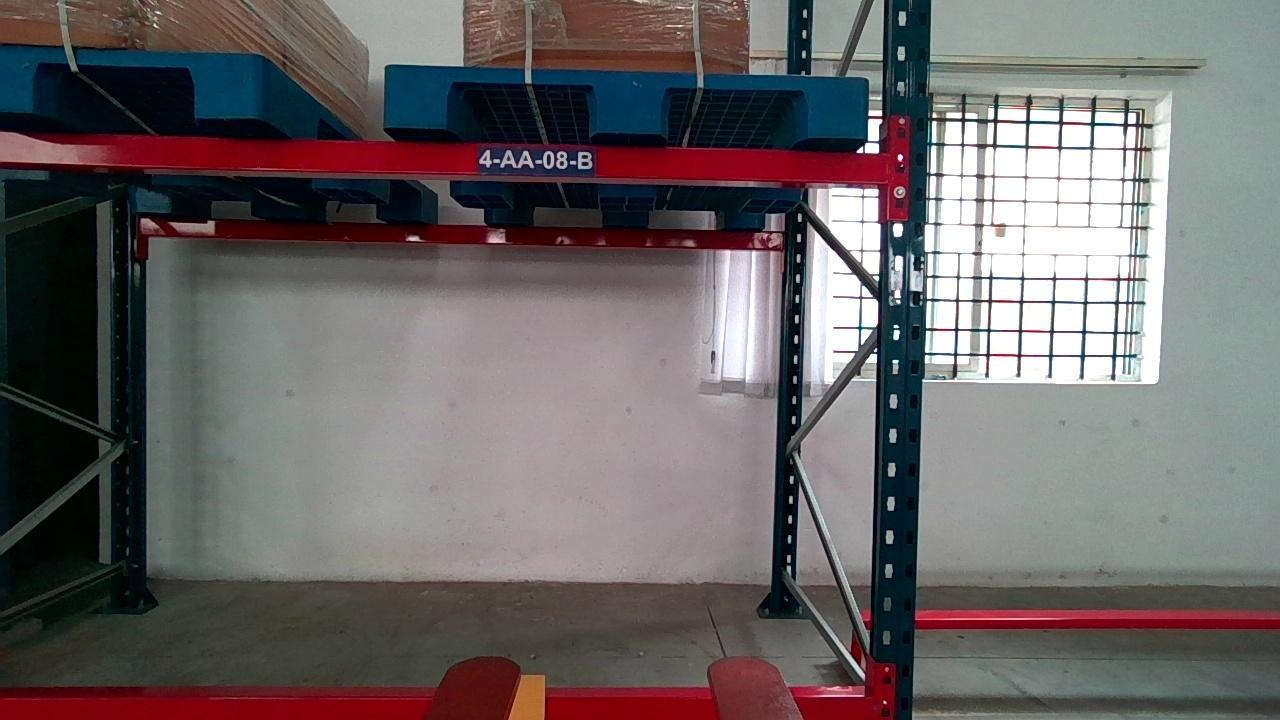h_rack: (1, 134, 890, 184), (0, 694, 865, 720)
small_pallet: (386, 64, 870, 137), (0, 49, 263, 120)
